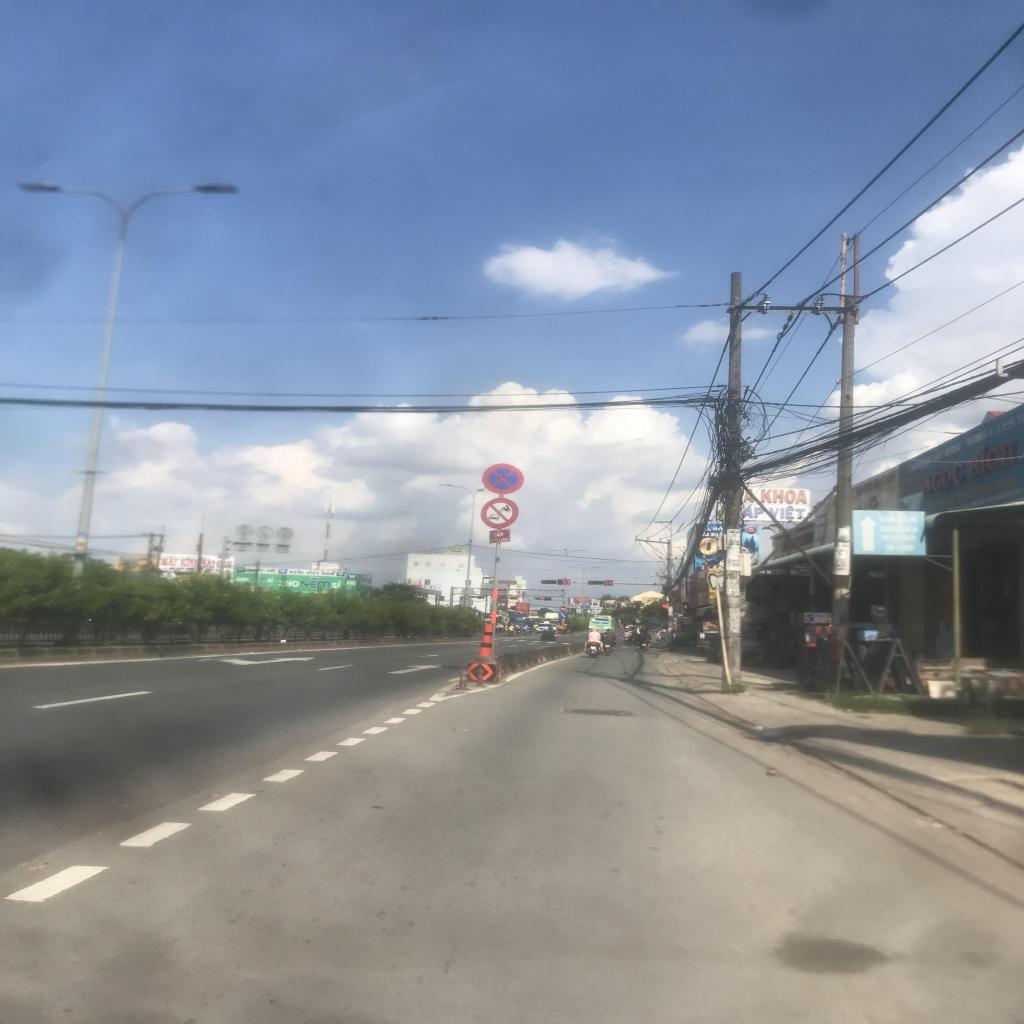cam_dung_xe_va_do_xe: (481, 462, 526, 495)
cam_xe_2_banh_va_xe_3_banh_co_dong_co: (478, 496, 520, 528)
